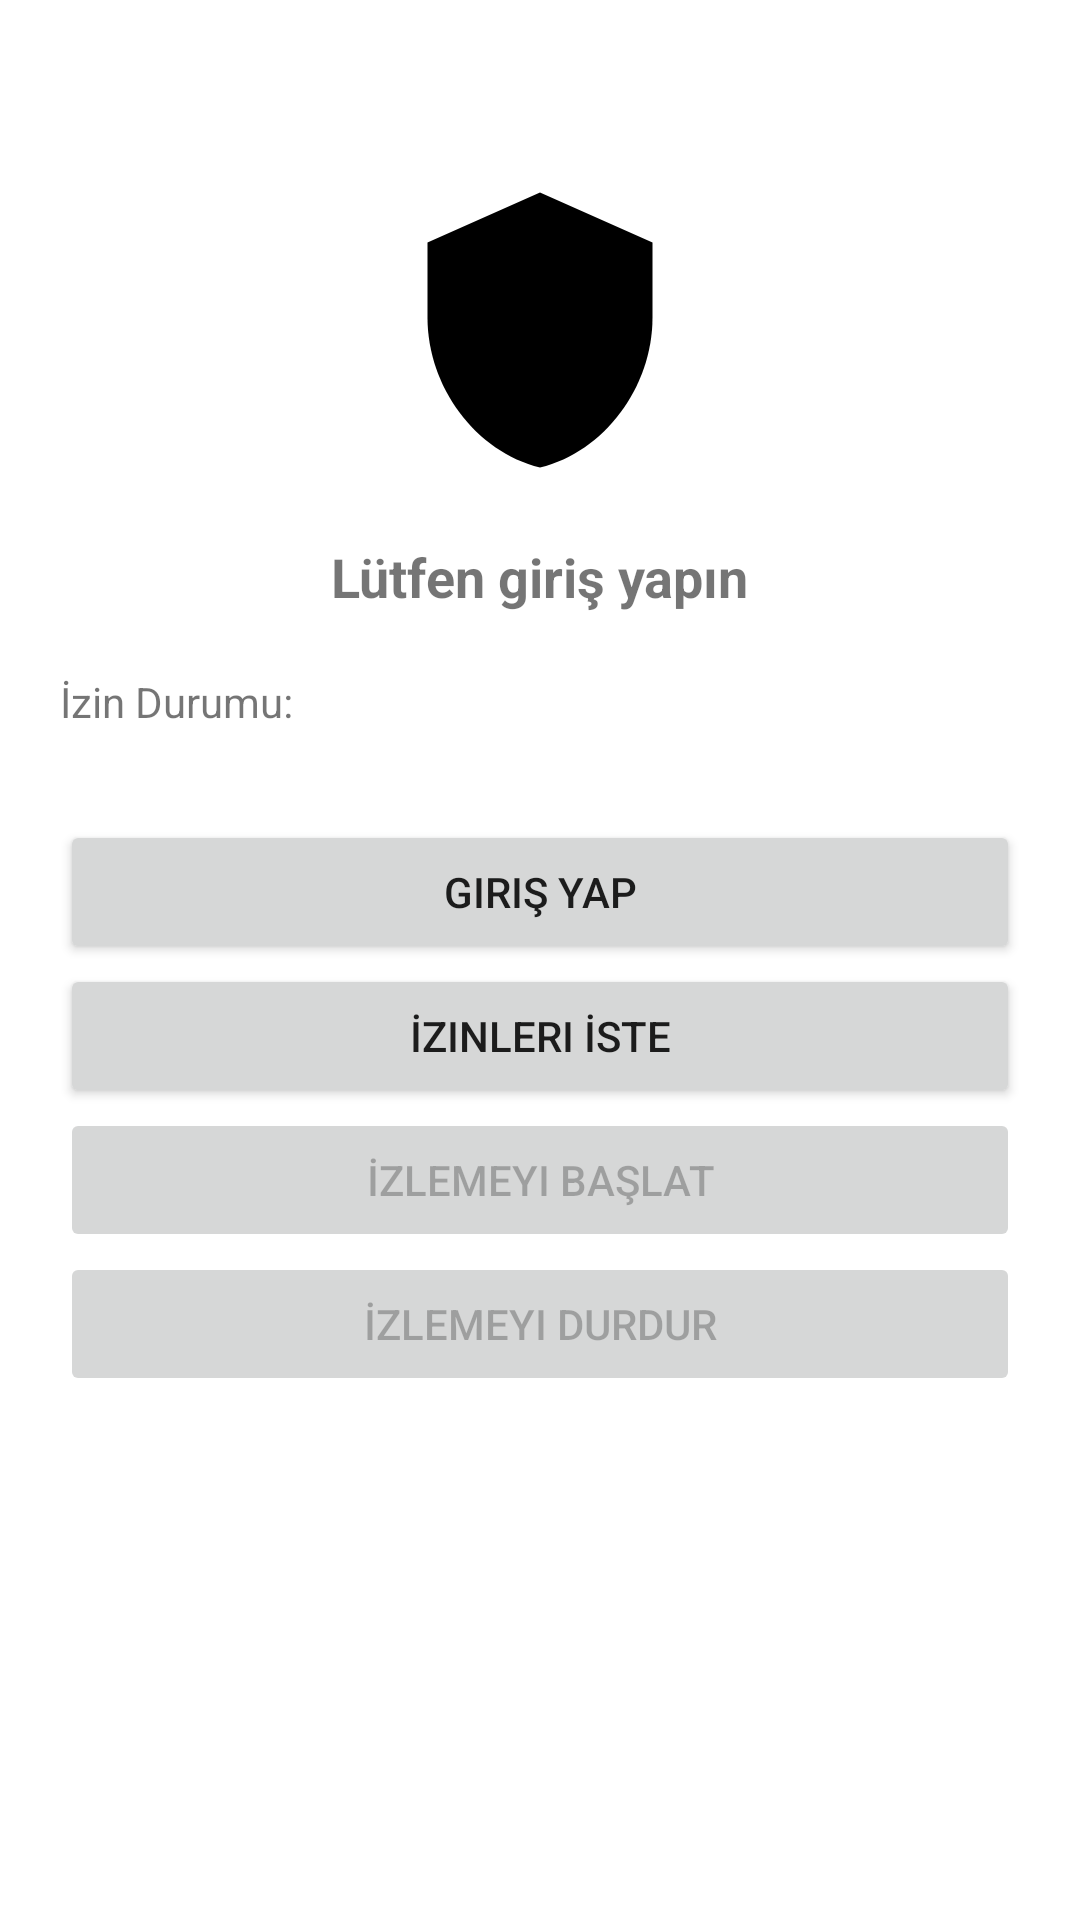

Screen size 1080 × 1920. Icon name, then its center in pixels as (x,y):
shield: (540,330)
